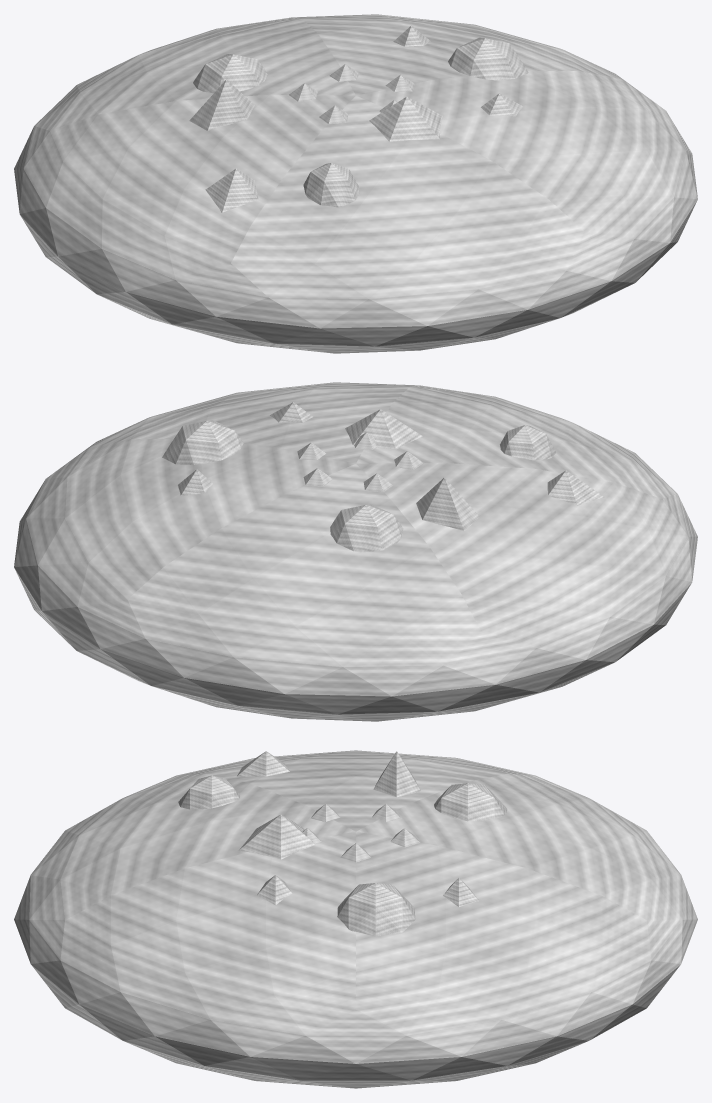
The model's file is limestone_node_variant_a.glb.
The picture shows the model from 3 angles, top to bottom: view 1: azimuth 30°, elevation 25°; view 2: azimuth 150°, elevation 25°; view 3: azimuth 270°, elevation 25°; orthographic projection.
Visible parts, largest first — view 1: Resource node bedrock, Exposed ore formation.001, Exposed ore formation.008, Exposed ore formation.004, Exposed ore formation.007, Exposed ore formation.005, Exposed ore formation.006, Exposed ore formation.009; view 2: Resource node bedrock, Exposed ore formation.004, Exposed ore formation.001, Exposed ore formation.005, Exposed ore formation.008, Exposed ore formation.007, Exposed ore formation.006, Exposed ore formation.002, Exposed ore formation.009; view 3: Resource node bedrock, Exposed ore formation.001, Exposed ore formation.004, Exposed ore formation.008, Exposed ore formation.007, Exposed ore formation.005, Exposed ore formation.006, Exposed ore formation.009, Exposed ore formation.002.
Boxes of the visible parts, bbox=[...] form: Resource node bedrock: bbox=[14, 14, 697, 353]; Exposed ore formation.001: bbox=[448, 37, 528, 80]; Exposed ore formation.008: bbox=[369, 96, 442, 141]; Exposed ore formation.004: bbox=[193, 54, 267, 93]; Exposed ore formation.007: bbox=[303, 163, 359, 207]; Exposed ore formation.005: bbox=[189, 79, 254, 130]; Exposed ore formation.006: bbox=[205, 168, 258, 212]; Exposed ore formation.009: bbox=[481, 93, 522, 116]; Resource node bedrock: bbox=[14, 382, 697, 721]; Exposed ore formation.004: bbox=[330, 504, 403, 552]; Exposed ore formation.001: bbox=[162, 420, 243, 464]; Exposed ore formation.005: bbox=[416, 477, 479, 531]; Exposed ore formation.008: bbox=[345, 409, 422, 449]; Exposed ore formation.007: bbox=[500, 425, 555, 460]; Exposed ore formation.006: bbox=[547, 470, 604, 505]; Exposed ore formation.002: bbox=[178, 469, 212, 495]; Exposed ore formation.009: bbox=[270, 402, 312, 422]; Resource node bedrock: bbox=[14, 750, 697, 1088]; Exposed ore formation.001: bbox=[337, 883, 415, 936]; Exposed ore formation.004: bbox=[434, 783, 507, 821]; Exposed ore formation.008: bbox=[239, 814, 315, 859]; Exposed ore formation.007: bbox=[178, 775, 240, 809]; Exposed ore formation.005: bbox=[373, 751, 421, 797]; Exposed ore formation.006: bbox=[237, 751, 289, 776]; Exposed ore formation.009: bbox=[256, 875, 292, 905]; Exposed ore formation.002: bbox=[443, 878, 478, 906].
Size of what is drawn, in the model's own units: 6 by 1.97 by 6.
Materials: 2 (2 with a texture image).
